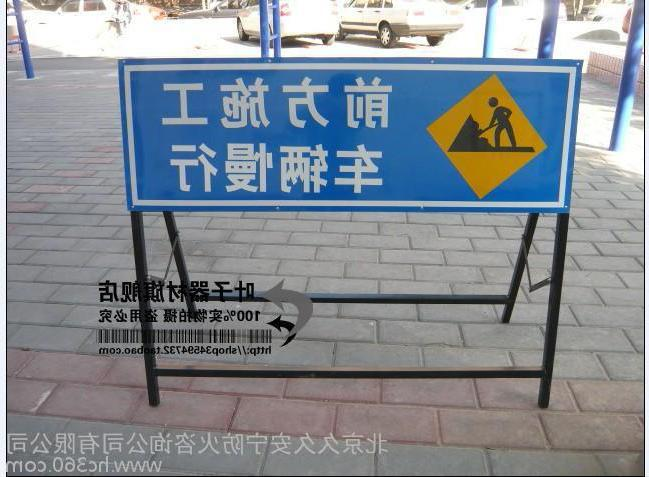sign: (119, 63, 577, 210)
